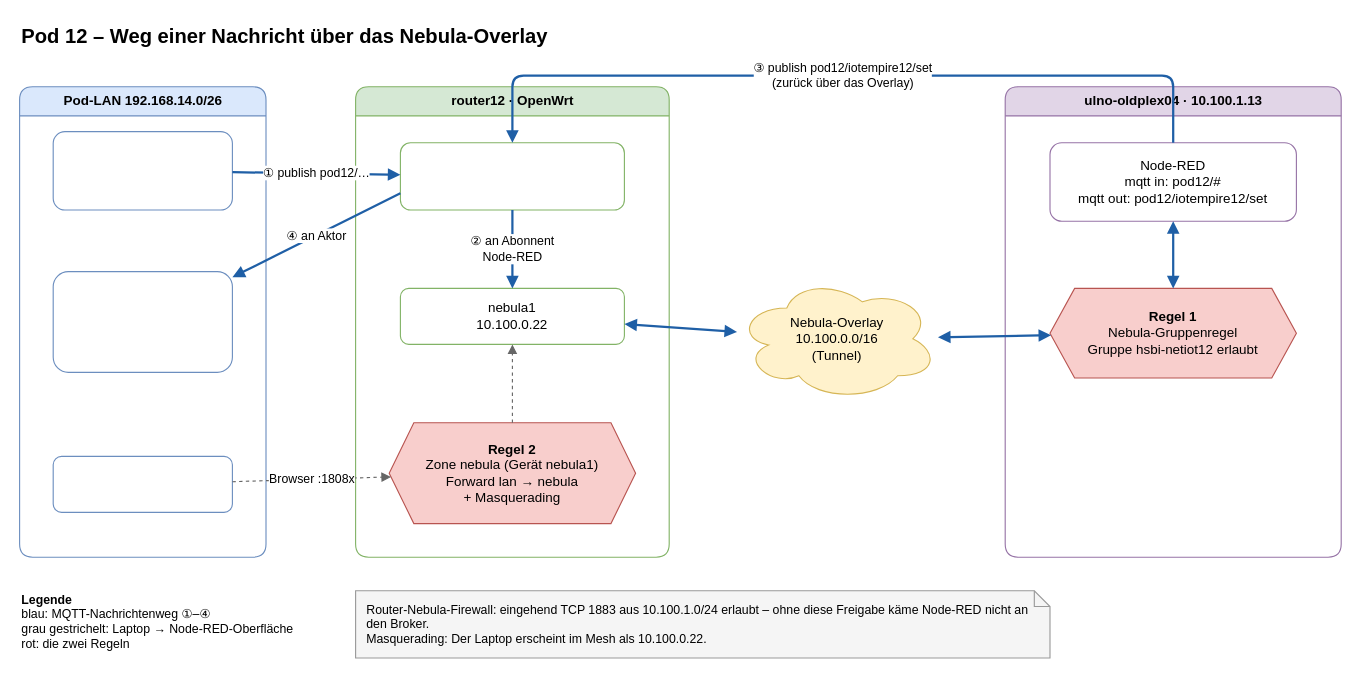
Image size: 1361x682. Some labels were removed from this diagram. Each missing label, with the centre of its shape:
"Aktor (nicht aufgebaut: Router hat keine steuerbare LED)" goes at point 142,321.
"Laptop (Browser)" goes at point 142,483.
"Pod-Broker Mosquitto :1883" goes at point 511,176.
"Sensor (im Test nicht aufgebaut)" goes at point 142,170.
